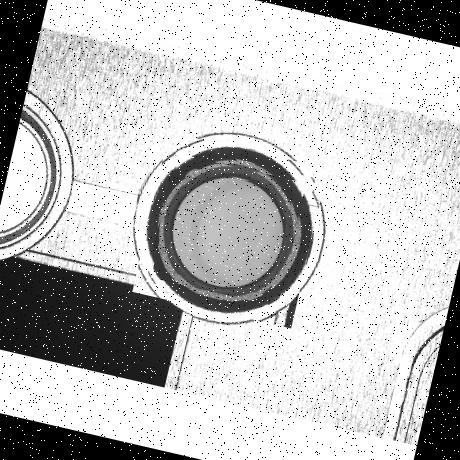Hole: (131, 131, 328, 328)
Hole2: (146, 144, 314, 314)
Hole3: (151, 152, 306, 307)
Hole4: (164, 166, 294, 296)
